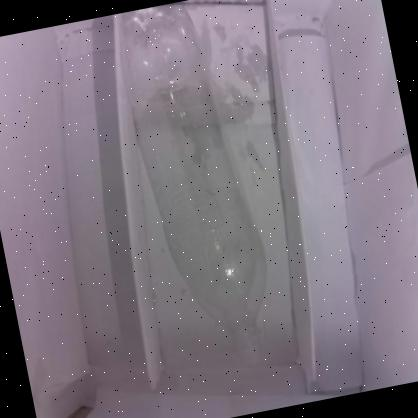bottle: (105, 0, 297, 390)
